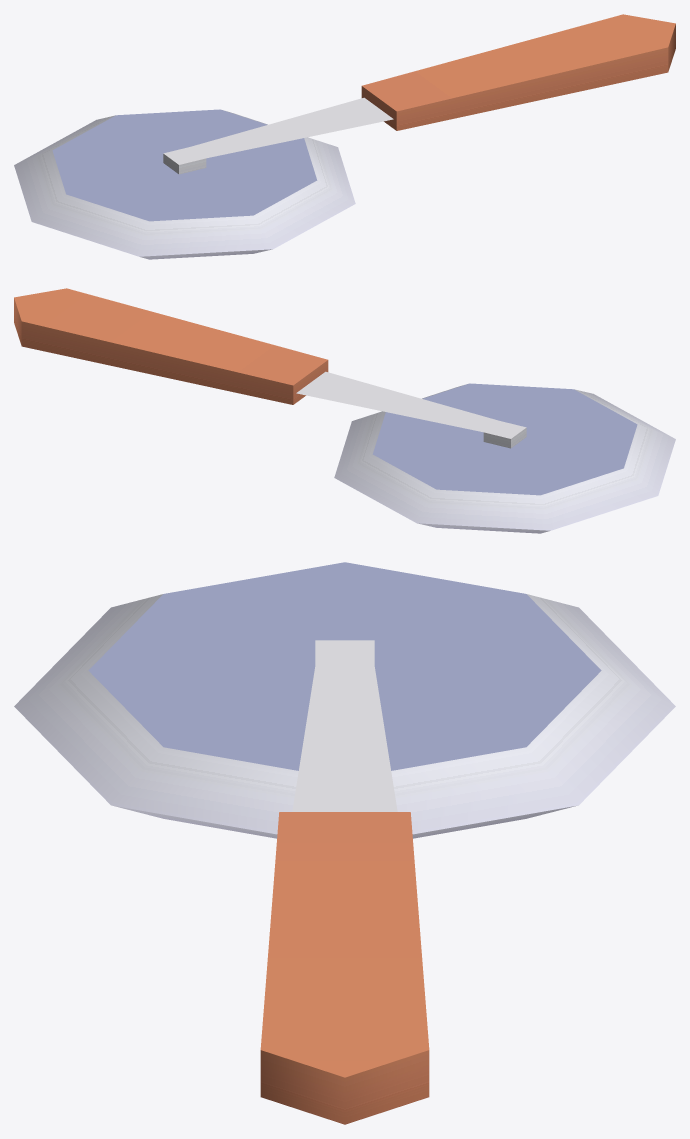
File: pizza-cutter.glb
3 renders of one model, top to bottom at view 1: azimuth 30°, elevation 25°; view 2: azimuth 150°, elevation 25°; view 3: azimuth 270°, elevation 25°, orthographic. The views are drawn at different scales.
Parts seen in each view (by area): view 1: pizza-cutter; view 2: pizza-cutter; view 3: pizza-cutter.
Boxes of the visible parts, bbox=[...] form: pizza-cutter: bbox=[14, 14, 675, 259]; pizza-cutter: bbox=[14, 288, 675, 533]; pizza-cutter: bbox=[14, 562, 675, 1124].
Size of the model in its own units: 0.536 by 0.0556 by 0.2549.
Materials: 1 (1 with a texture image).
